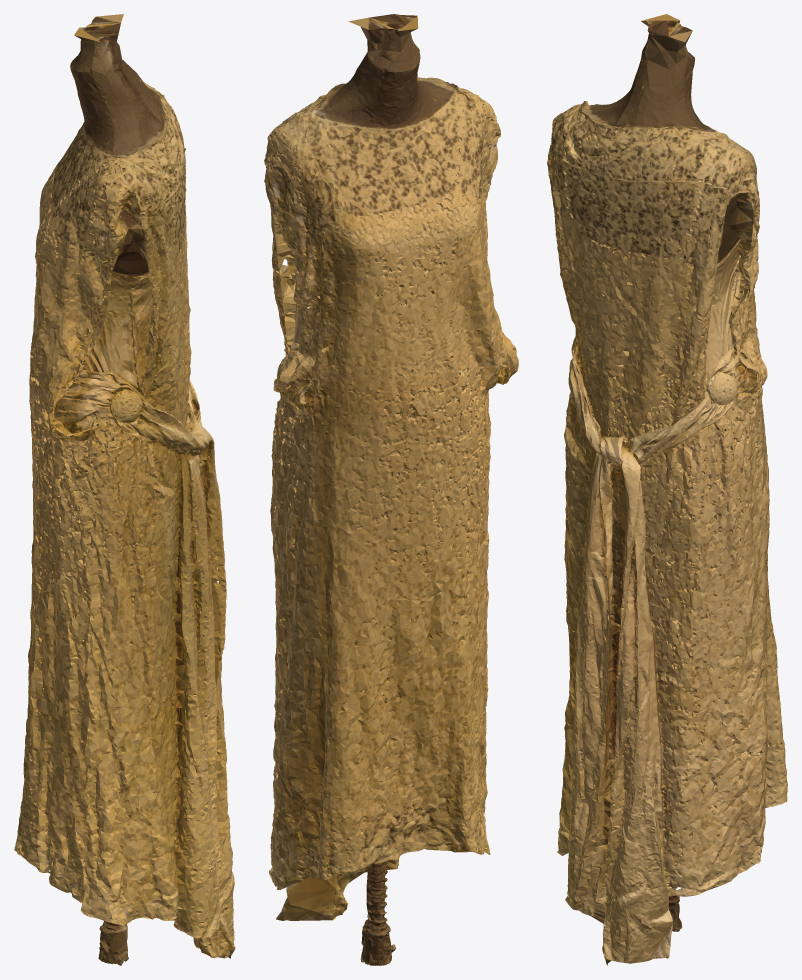
3 renders of one model, left to right at view 1: azimuth 30°, elevation 25°; view 2: azimuth 150°, elevation 25°; view 3: azimuth 270°, elevation 25°, orthographic. The views are drawn at different scales.
Visible parts, largest first — view 1: display; view 2: display; view 3: display.
Part boxes in pixels (x1,y1,x2,y2): display: [14, 14, 235, 965]; display: [264, 14, 518, 965]; display: [547, 14, 787, 965].
Bounding box in the file's own units: 6.24 × 27.5 × 6.71.
Materials: 1 (1 with a texture image).
